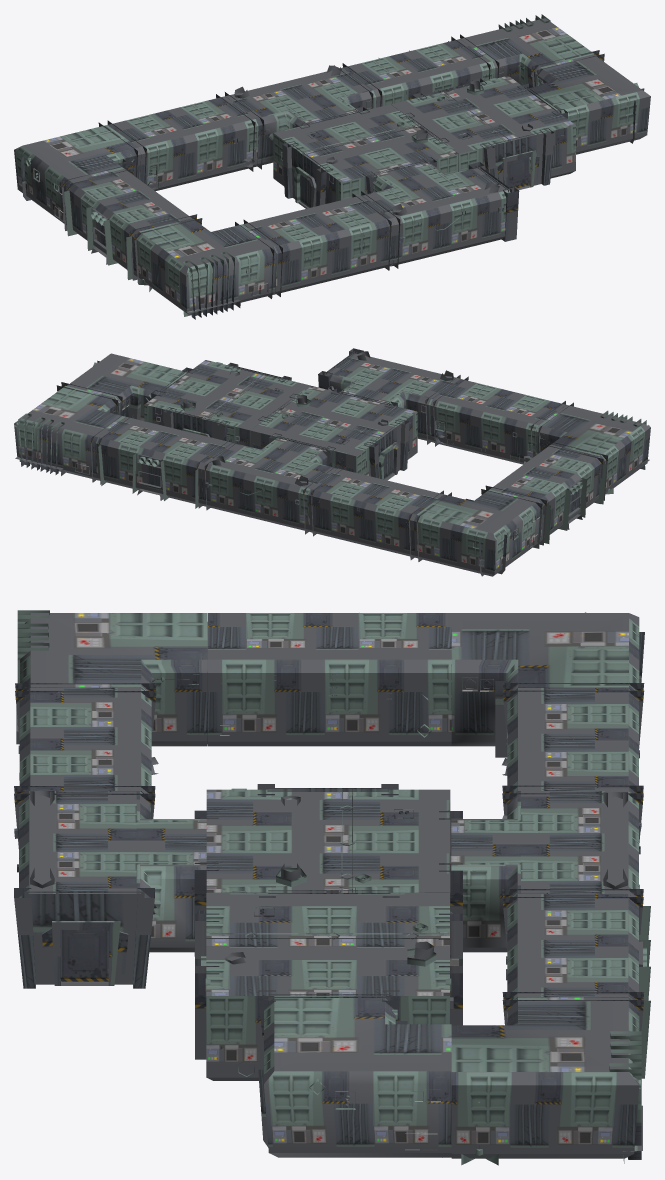
File: Combined_Mesh_root_scene__5_130fafea__zombies2_diffuse_06_4771cff4_c1f257.obj
3 renders of one model, top to bottom at view 1: azimuth 30°, elevation 25°; view 2: azimuth 150°, elevation 25°; view 3: azimuth 270°, elevation 25°, orthographic. The views are drawn at different scales.
Bounding box in the file's own units: 92.31 × 9.64 × 52.29.
179 materials, 179 textured.
